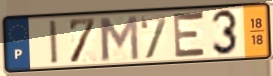3: (209, 8, 242, 59)
7: (67, 16, 98, 65), (139, 14, 169, 61)
E: (172, 10, 208, 60)
I: (47, 18, 61, 66)
M: (97, 14, 141, 62)
